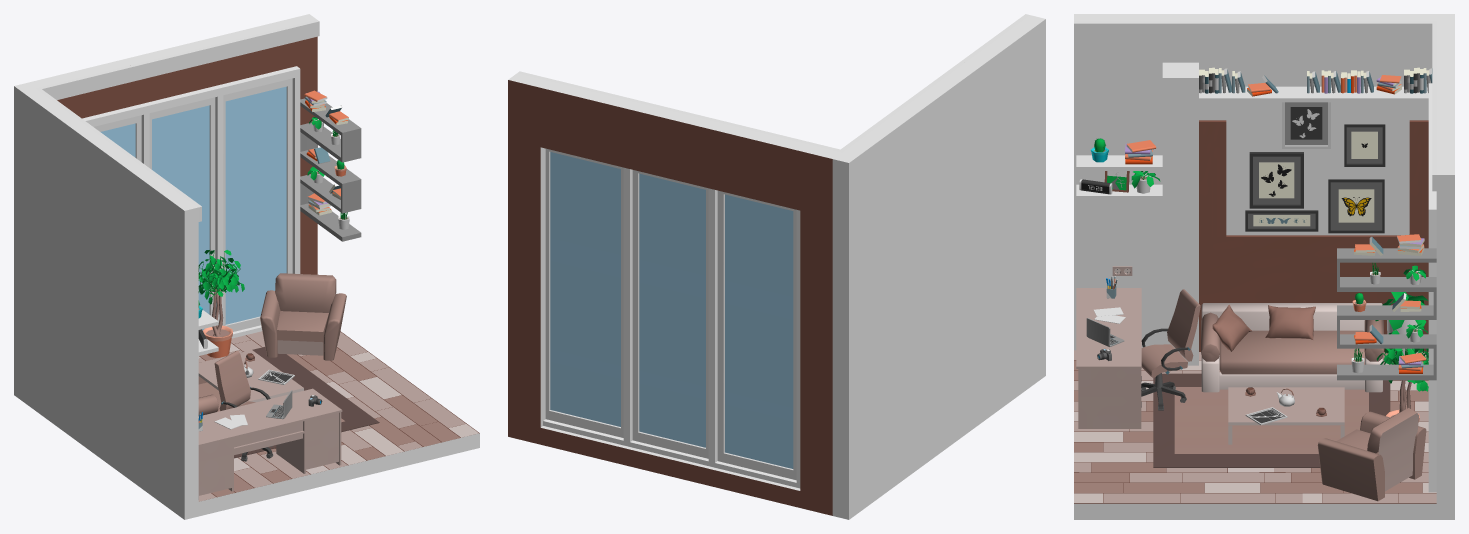
File: room_12.glb
The picture shows the model from 3 angles, left to right: view 1: azimuth 30°, elevation 25°; view 2: azimuth 150°, elevation 25°; view 3: azimuth 270°, elevation 25°; orthographic projection. The views are drawn at different scales.
Parts seen in each view (by area): view 1: Walls_006.035, window_021.002, floor_018.007, office_table_014.001, Walls_009.009, armchair_011.003, Walls_056.009, shelf_009.001, Walls_003.089, Walls_009.007, carpet_001.007, flower_009.003 (+3 smaller); view 2: Walls_006.035, window_021.002, Walls_009.009, Walls_009.007, Walls_009.006, Walls_009.008, Walls_003.089, Walls_003.090; view 3: Walls_006.035, floor_018.007, sofa_004.002, Walls_019.052, carpet_001.007, Walls_003.091, office_table_014.001, Walls_056.009, armchair_011.003, Walls_009.007, Walls_003.090, shelf_009.001 (+27 smaller).
Part boxes in pixels (x1,y1,x2,y2): Walls_006.035: (14, 82, 198, 519); window_021.002: (82, 66, 300, 338); floor_018.007: (198, 331, 478, 501); office_table_014.001: (198, 388, 342, 499); Walls_009.009: (56, 21, 289, 118); armchair_011.003: (260, 273, 346, 360); Walls_056.009: (198, 331, 479, 516); shelf_009.001: (300, 98, 361, 241); Walls_003.089: (36, 20, 319, 99); Walls_009.007: (281, 14, 317, 274); carpet_001.007: (198, 347, 379, 458); flower_009.003: (198, 250, 244, 357); Walls_006.035: (832, 15, 1045, 519); window_021.002: (543, 148, 800, 488); Walls_009.009: (540, 81, 809, 210); Walls_009.007: (508, 73, 549, 444); Walls_009.006: (800, 144, 841, 515); Walls_009.008: (540, 426, 800, 507); Walls_003.089: (518, 71, 843, 151); Walls_003.090: (841, 14, 1028, 150); Walls_006.035: (1074, 14, 1454, 350); floor_018.007: (1074, 350, 1436, 502); sofa_004.002: (1201, 303, 1383, 392); Walls_019.052: (1199, 235, 1428, 351); carpet_001.007: (1153, 373, 1390, 467); Walls_003.091: (1162, 62, 1198, 365); office_table_014.001: (1076, 288, 1141, 428); Walls_056.009: (1074, 360, 1436, 519); armchair_011.003: (1317, 408, 1426, 501); Walls_009.007: (1436, 159, 1454, 519); Walls_003.090: (1074, 21, 1432, 39); shelf_009.001: (1337, 248, 1436, 380).
Size of the model in its own units: 4.22 by 4.2 by 4.2.
Materials: 1 (1 with a texture image).
